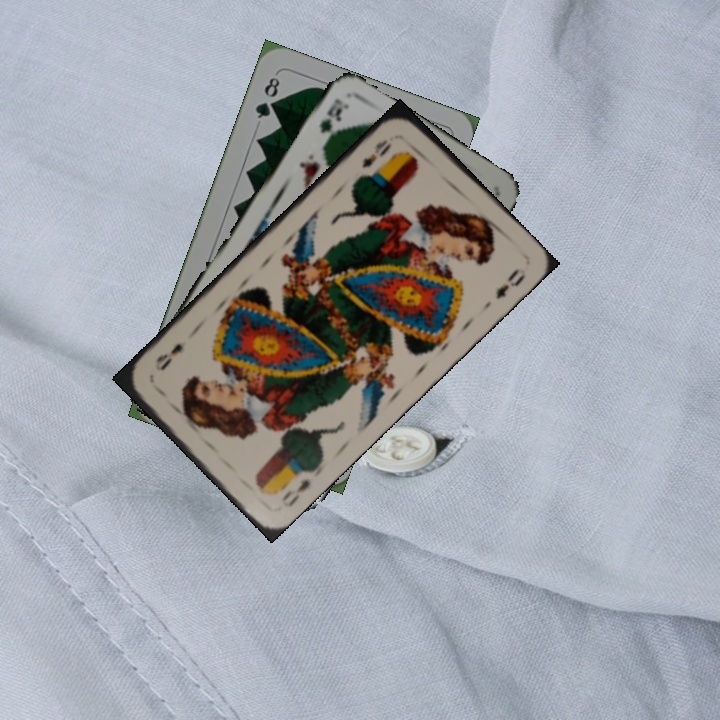EO: (358, 135, 395, 171), (277, 474, 314, 510)
G8: (251, 73, 283, 122)
GK: (315, 94, 348, 136)
